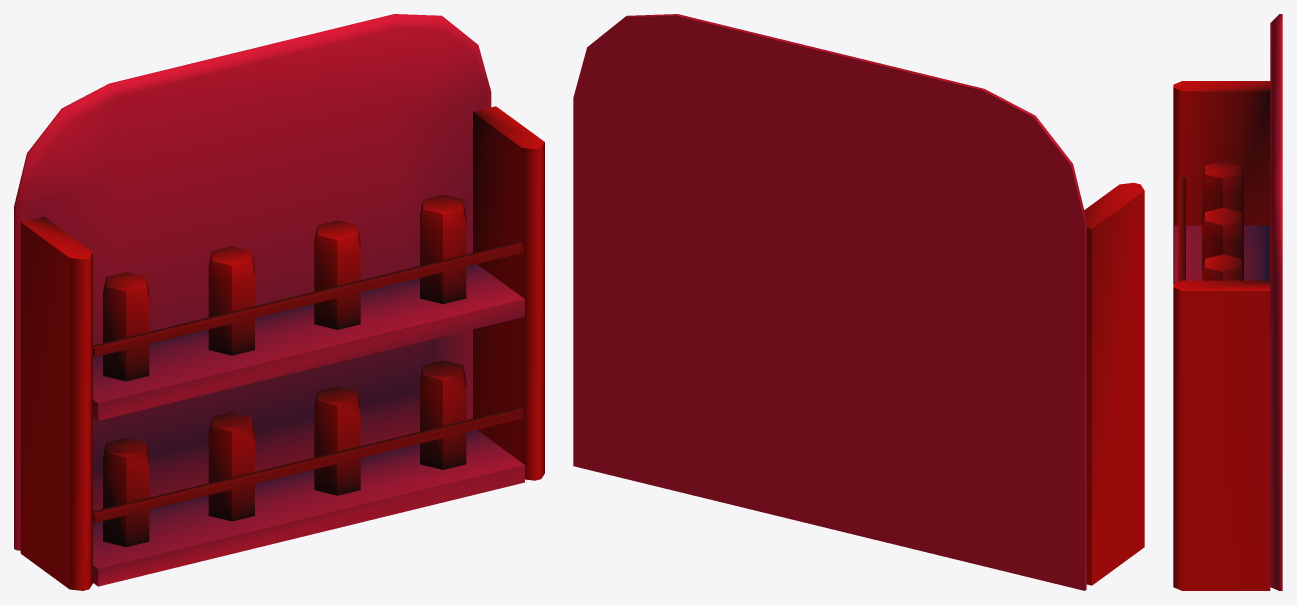
The model's file is CI_Kitchen_SpiceRack.glb.
The picture shows the model from 3 angles, left to right: view 1: azimuth 30°, elevation 25°; view 2: azimuth 150°, elevation 25°; view 3: azimuth 270°, elevation 25°; orthographic projection. The views are drawn at different scales.
Parts seen in each view (by area): view 1: CI_Kitchen_SpiceRack; view 2: CI_Kitchen_SpiceRack; view 3: CI_Kitchen_SpiceRack.
Boxes of the visible parts, x1,y1,x2,y2 form: CI_Kitchen_SpiceRack: (14,14,544,590); CI_Kitchen_SpiceRack: (573,14,1144,590); CI_Kitchen_SpiceRack: (1173,14,1282,590).
Bounding box in the file's own units: 0.45 × 0.4 × 0.099.
